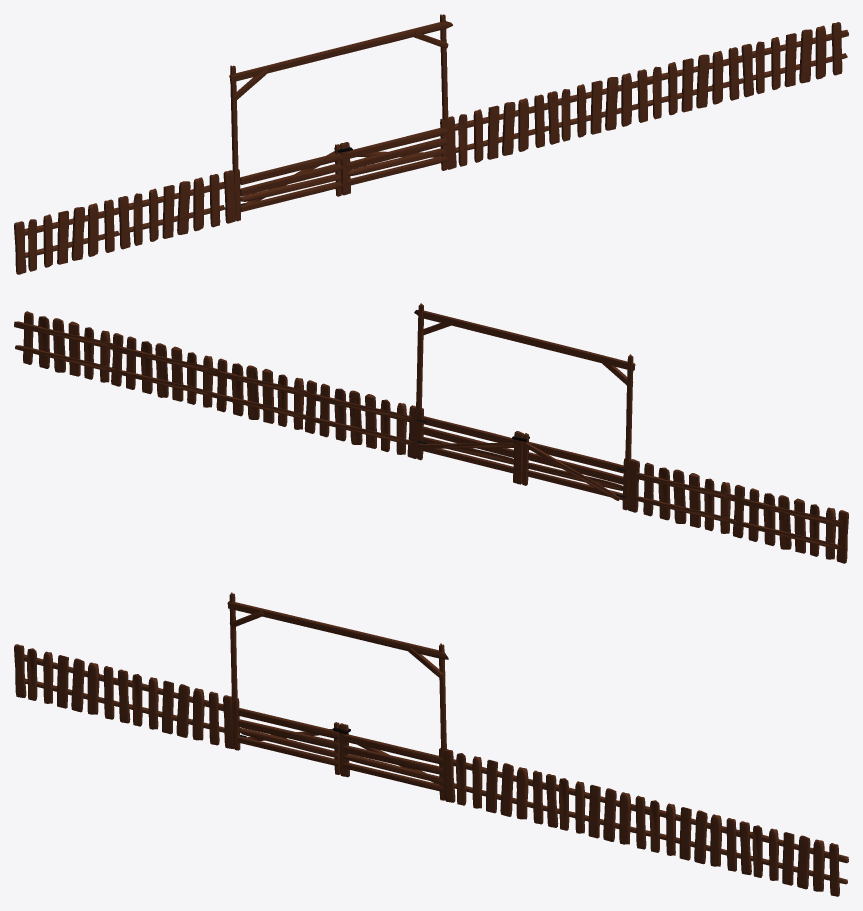
Rendered from zaun_hoftor 2.fbx.
The picture shows the model from 3 angles, top to bottom: view 1: azimuth 30°, elevation 25°; view 2: azimuth 150°, elevation 25°; view 3: azimuth 330°, elevation 25°; orthographic projection.
Parts seen in each view (by area): view 1: Cube.073, Cube.058, Cube.059, Cube.066, Cube.065, Cube.071, Cube.060, Cube.064, Cube.063, Cube.062, Cube.074, Cube.052 (+21 smaller); view 2: Cube.073, Cube.071, Cube.074, Cube.065, Cube.059, Cube.058, Cube.066, Cube.064, Cube.057, Cube.060, Cube.095, Cube.028 (+13 smaller); view 3: Cube.073, Cube.059, Cube.058, Cube.065, Cube.066, Cube.060, Cube.064, Cube.063, Cube.062, Cube.074, Cube.071, Cube.101 (+11 smaller).
Part boxes in pixels (box(x1,y1,x2,y2)): Cube.073: box(229, 21, 452, 82); Cube.058: box(240, 164, 342, 196); Cube.059: box(240, 153, 342, 184); Cube.066: box(346, 138, 448, 170); Cube.065: box(346, 127, 448, 159); Cube.071: box(230, 65, 238, 220); Cube.060: box(240, 182, 342, 211); Cube.064: box(346, 156, 447, 186); Cube.063: box(240, 174, 341, 201); Cube.062: box(347, 148, 446, 176); Cube.074: box(440, 14, 448, 168); Cube.052: box(590, 80, 602, 134); Cube.073: box(414, 310, 635, 370); Cube.071: box(624, 354, 633, 509); Cube.074: box(416, 303, 423, 457); Cube.065: box(422, 416, 514, 443); Cube.059: box(528, 442, 623, 473); Cube.058: box(527, 452, 623, 484); Cube.066: box(422, 426, 513, 457); Cube.064: box(422, 448, 513, 473); Cube.057: box(523, 443, 620, 500); Cube.060: box(527, 470, 622, 500); Cube.095: box(740, 522, 841, 549); Cube.028: box(635, 496, 736, 523); Cube.073: box(227, 601, 448, 659); Cube.059: box(237, 708, 338, 738); Cube.058: box(237, 719, 338, 749); Cube.065: box(342, 734, 443, 764); Cube.066: box(342, 745, 443, 774); Cube.060: box(237, 736, 338, 765); Cube.064: box(342, 763, 443, 791); Cube.063: box(238, 728, 339, 757); Cube.062: box(343, 754, 443, 783); Cube.074: box(439, 643, 446, 799); Cube.071: box(229, 592, 237, 748); Cube.101: box(87, 662, 99, 714).
Bounding box in the file's own units: 3982 × 716 × 41.15.
